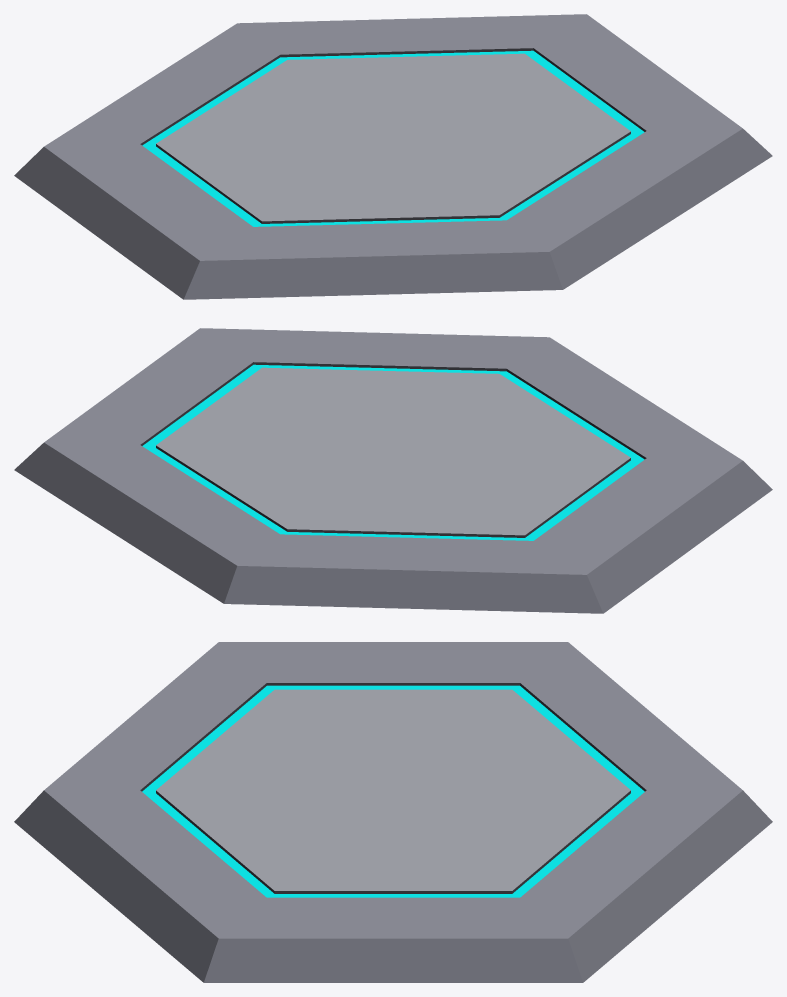
File: FloorHexa_01.glb
The picture shows the model from 3 angles, top to bottom: view 1: azimuth 30°, elevation 25°; view 2: azimuth 150°, elevation 25°; view 3: azimuth 270°, elevation 25°; orthographic projection. The views are drawn at different scales.
Visible parts, largest first — view 1: FloorHexa_01; view 2: FloorHexa_01; view 3: FloorHexa_01.
Boxes of the visible parts, x1,y1,x2,y2 form: FloorHexa_01: [14, 14, 772, 299]; FloorHexa_01: [14, 328, 772, 613]; FloorHexa_01: [14, 642, 772, 982].
Size of what is drawn, in the model's own units: 2 by 0.0918 by 1.99.
Materials: 1 (1 with a texture image).
